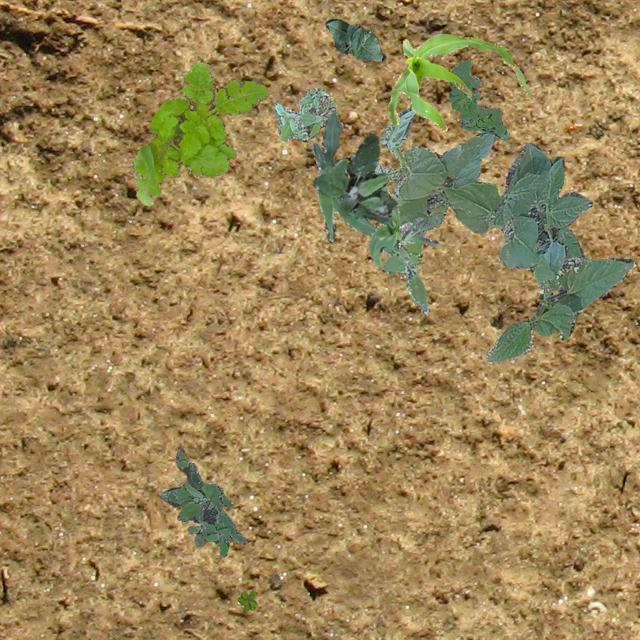crop: (374, 106, 592, 290), (486, 240, 634, 362), (310, 112, 440, 246), (388, 32, 532, 132), (368, 168, 422, 264), (324, 18, 384, 60)
weed: (132, 62, 268, 205), (158, 446, 245, 556), (312, 132, 396, 222), (448, 58, 508, 138), (382, 232, 428, 312), (272, 86, 336, 140), (237, 590, 256, 612)
